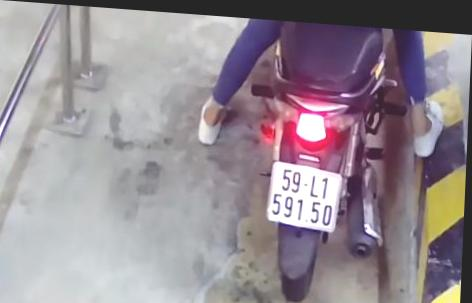License_Plate: (262, 156, 351, 237)
